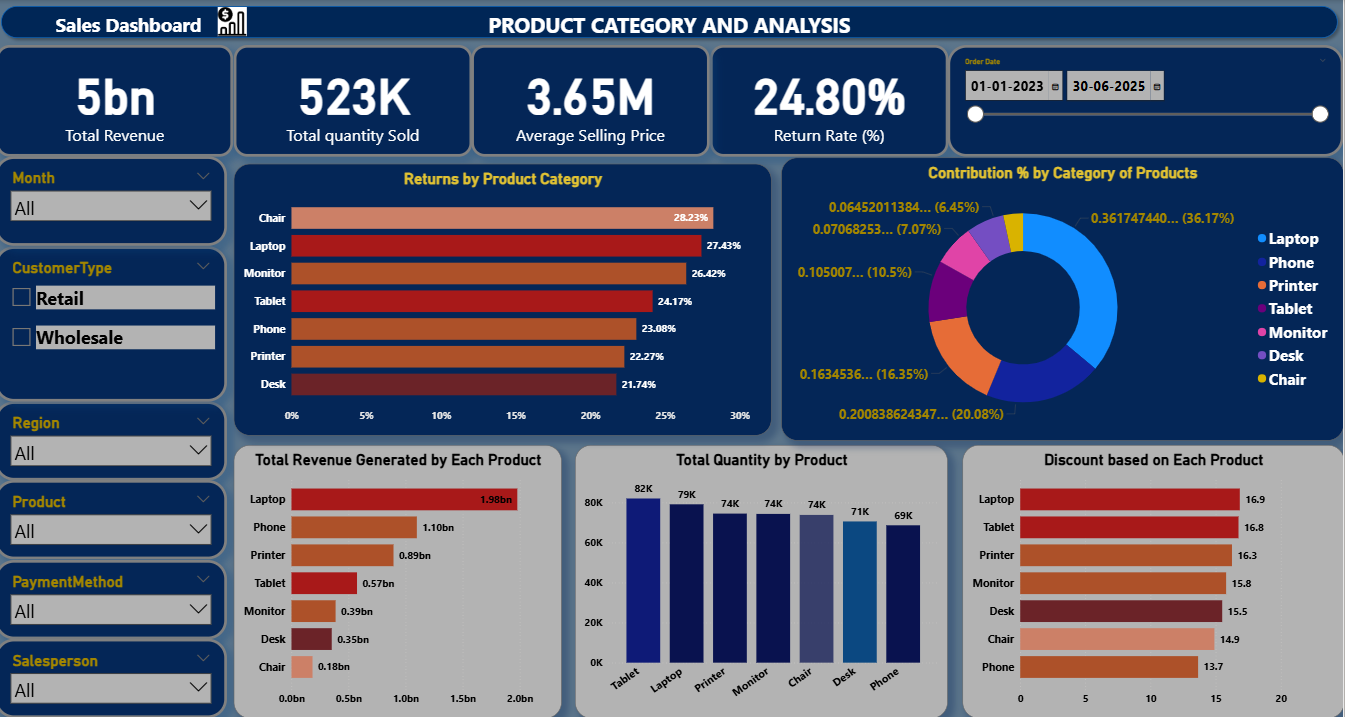

The dashboard page shown, as its layout file describes it:
{"tool":"powerbi","page":{"name":"Product and Category Analysis","canvas":[2000,1065],"ordinal":1},"visuals":[{"type":"shape","box":[0,0,2000.4,65.4],"z":0},{"type":"card","fields":{"Values":["Sum(Sales Dump.TotalPrice)"]},"box":[1.8,66.2,351.4,165.6],"z":1000},{"type":"card","fields":{"Values":["Sum(Sales Dump.Quantity)"]},"box":[353.3,66.2,353.3,165.6],"z":2000},{"type":"card","fields":{"Values":["Sales Dump.Return_Rate"]},"box":[1059.9,66.2,353.3,165.6],"z":3000},{"type":"card","fields":{"Values":["Sales Dump.ASP"]},"box":[706.6,66.2,353.3,165.6],"z":4000},{"type":"slicer","fields":{"Values":["Sales Dump.Order Date"]},"box":[1413.1,66.2,587,165.6],"z":5000},{"type":"slicer","fields":{"Values":["Sales Dump.Region"]},"box":[0,594.3,344.1,117.8],"z":6000},{"type":"slicer","fields":{"Values":["Sales Dump.Product"]},"box":[0,712.1,344.1,117.8],"z":7000},{"type":"slicer","fields":{"Values":["Sales Dump.PaymentMethod"]},"box":[0,829.9,344.1,117.8],"z":8000},{"type":"slicer","fields":{"Values":["Sales Dump.Salesperson"]},"box":[0,947.6,344.1,117.8],"z":9000},{"type":"slicer","fields":{"Values":["Sales Dump.CustomerType"]},"box":[0,364.3,344.1,230],"z":10000},{"type":"slicer","fields":{"Values":["Sales Dump.Order Date.Variation.Date Hierarchy.Month"]},"box":[0,231.8,344.1,132.5],"z":11000},{"type":"clusteredBarChart","title":"Total Revenue Generated by Each Product","fields":{"Category":["Sales Dump.Product"],"Y":["Sales Dump.Total price"]},"box":[353.8,660.4,486.7,405.2],"z":12000},{"type":"clusteredColumnChart","title":"Total Quantity by Product","fields":{"Category":["Sales Dump.Product"],"Y":["Sum(Sales Dump.Quantity)"]},"box":[859.8,660.4,553.2,405.2],"z":13000},{"type":"clusteredBarChart","title":"Returns by Product Category","fields":{"Category":["Sales Dump.Product"],"Y":["Sales Dump.Return_Rate"]},"box":[353.8,242.3,797.6,403.1],"z":14000},{"type":"donutChart","title":"Contribution % by Category of Products","fields":{"Category":["Sales Dump.Product"],"Y":["Sales Dump.Category_Contributor"]},"box":[1166.4,233.7,834.1,420.2],"z":15000},{"type":"clusteredBarChart","title":" Discount based on Each Product","fields":{"Y":["Sum(Sales Dump.Discount)"],"Category":["Sales Dump.Product"]},"box":[1434.4,660.4,566,405.2],"z":16000},{"type":"actionButton","box":[41.8,12.7,310.7,40],"z":17000},{"type":"image","box":[321.6,5.5,61.8,52.7],"z":18000}]}

Visuals, with their boxes in screenshot pixels (x1, y1, x2, y2), scaled from the page's 2000x1065 canvas onto the 1345x717 screenshot:
shape: detection(0, 0, 1344, 44)
card - Sum(Sales Dump.TotalPrice): detection(1, 45, 238, 156)
card - Sum(Sales Dump.Quantity): detection(238, 45, 475, 156)
card - Sales Dump.Return_Rate: detection(713, 45, 950, 156)
card - Sales Dump.ASP: detection(475, 45, 713, 156)
slicer - Sales Dump.Order Date: detection(950, 45, 1344, 156)
slicer - Sales Dump.Region: detection(0, 400, 231, 479)
slicer - Sales Dump.Product: detection(0, 479, 231, 559)
slicer - Sales Dump.PaymentMethod: detection(0, 559, 231, 638)
slicer - Sales Dump.Salesperson: detection(0, 638, 231, 716)
slicer - Sales Dump.CustomerType: detection(0, 245, 231, 400)
slicer - Sales Dump.Order Date.Variation.Date Hierarchy.Month: detection(0, 156, 231, 245)
"Total Revenue Generated by Each Product" clusteredBarChart: detection(238, 445, 565, 716)
"Total Quantity by Product" clusteredColumnChart: detection(578, 445, 950, 716)
"Returns by Product Category" clusteredBarChart: detection(238, 163, 774, 435)
"Contribution % by Category of Products" donutChart: detection(784, 157, 1344, 440)
" Discount based on Each Product" clusteredBarChart: detection(965, 445, 1344, 716)
actionButton: detection(28, 9, 237, 35)
image: detection(216, 4, 258, 39)
